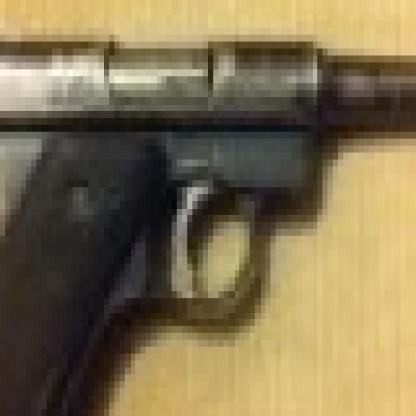gun: (0, 21, 411, 409)
